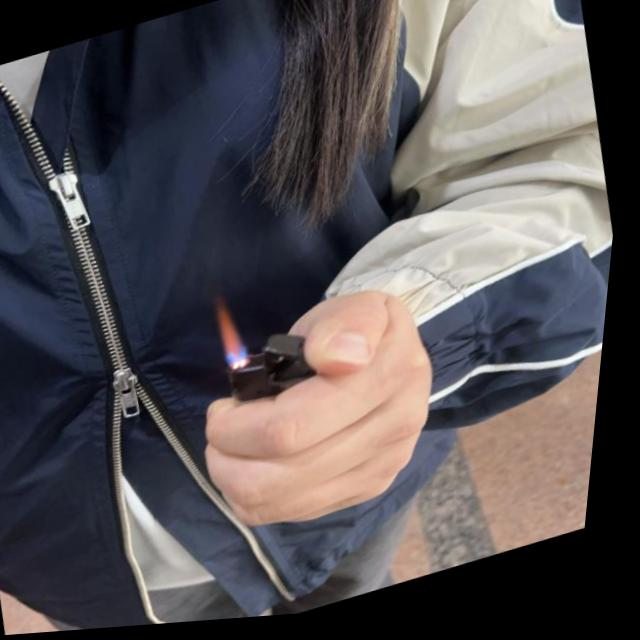Fire: (210, 291, 264, 377)
